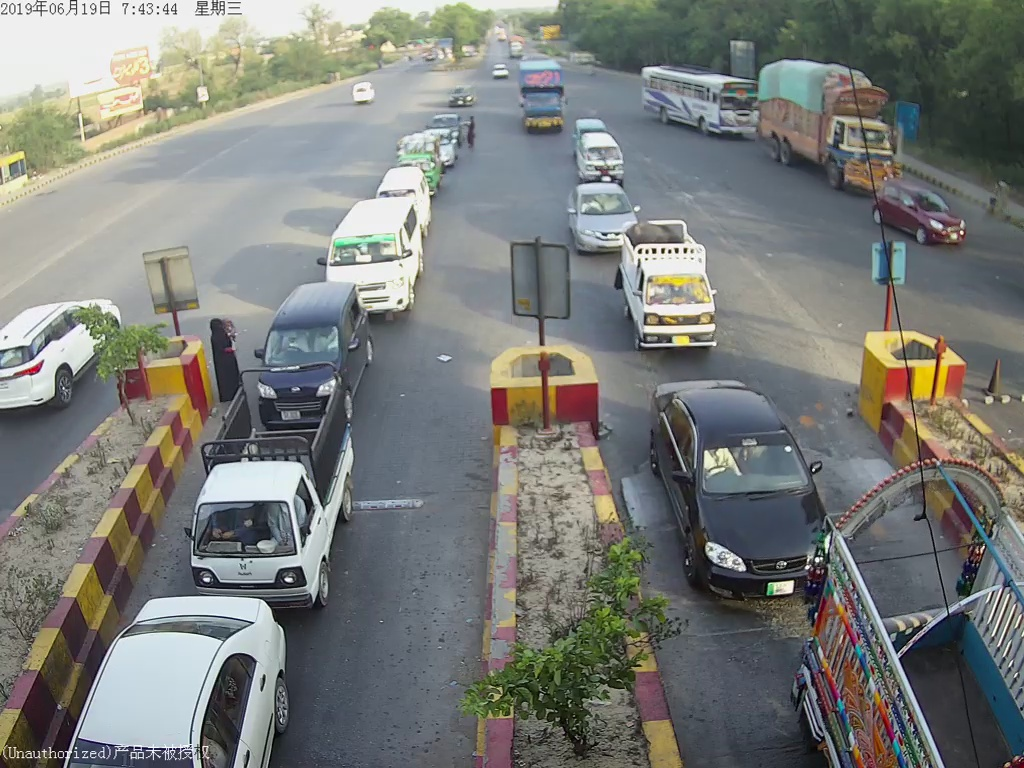Cat-1: (197, 376, 378, 605), (655, 380, 819, 603), (617, 224, 721, 347)
